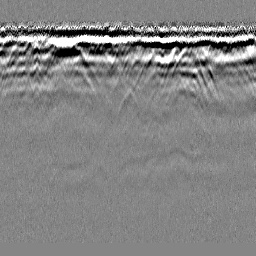cavity: (116, 87, 140, 120)
